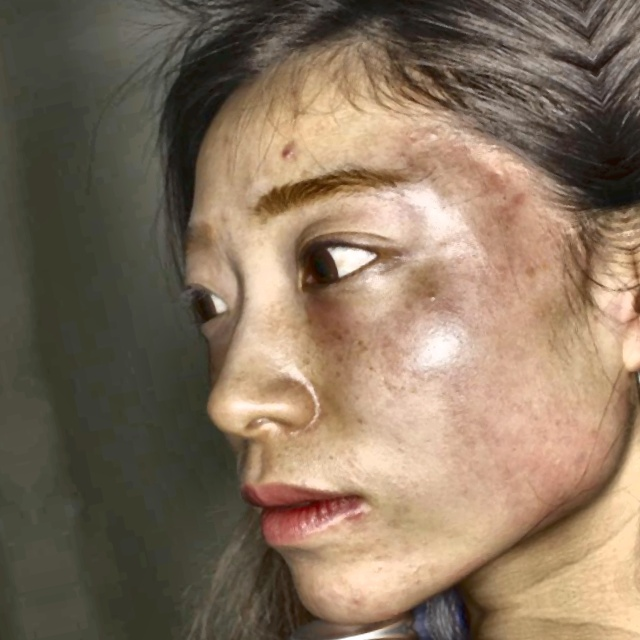comedone: (275, 132, 310, 163), (344, 583, 378, 610), (381, 598, 404, 624)
